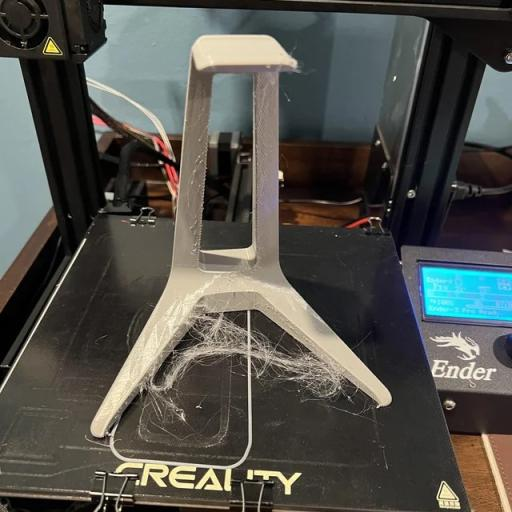stringing: (182, 317, 270, 366), (272, 352, 345, 396)
